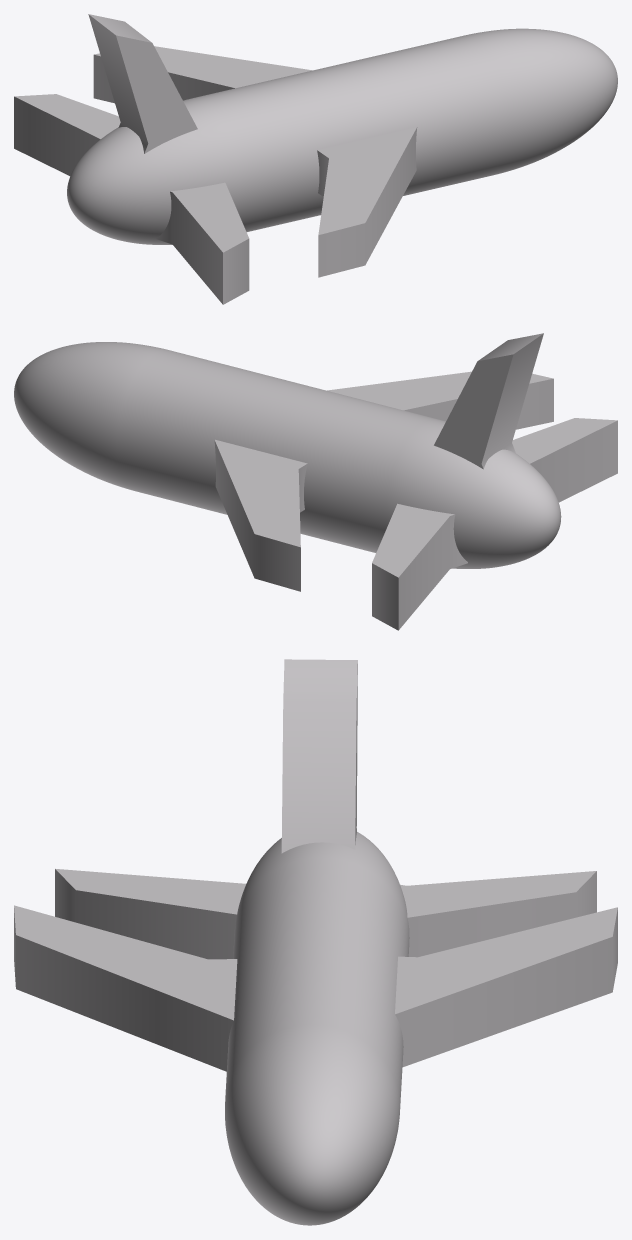
The model's file is airplane.glb.
The picture shows the model from 3 angles, top to bottom: view 1: azimuth 30°, elevation 25°; view 2: azimuth 150°, elevation 25°; view 3: azimuth 270°, elevation 25°; orthographic projection. The views are drawn at different scales.
Visible parts, largest first — view 1: root_Material_166_0, root_Material_170_0, root_Material_172_0, root_Material_176_0, root_Material_174_0, root_Material_168_0; view 2: root_Material_166_0, root_Material_168_0, root_Material_172_0, root_Material_174_0, root_Material_176_0, root_Material_170_0; view 3: root_Material_166_0, root_Material_170_0, root_Material_168_0, root_Material_172_0, root_Material_176_0, root_Material_174_0.
Part boxes in pixels (x1,y1,x2,y2): root_Material_166_0: (67,28,617,244); root_Material_170_0: (317,127,417,277); root_Material_172_0: (88,14,197,153); root_Material_176_0: (156,182,249,304); root_Material_174_0: (14,94,120,175); root_Material_168_0: (93,46,312,103); root_Material_166_0: (14,342,561,568); root_Material_168_0: (214,439,307,591); root_Material_172_0: (434,333,543,469); root_Material_174_0: (372,503,467,630); root_Material_176_0: (512,418,617,502); root_Material_170_0: (327,371,553,429); root_Material_166_0: (225,832,409,1225); root_Material_170_0: (14,905,237,1071); root_Material_168_0: (395,907,617,1067); root_Material_172_0: (281,659,357,853); root_Material_176_0: (55,868,245,959); root_Material_174_0: (400,871,596,957).
Bounding box in the file's own units: 1.3 × 0.5443 × 0.9956.
Materials: 6 (6 with a texture image).
